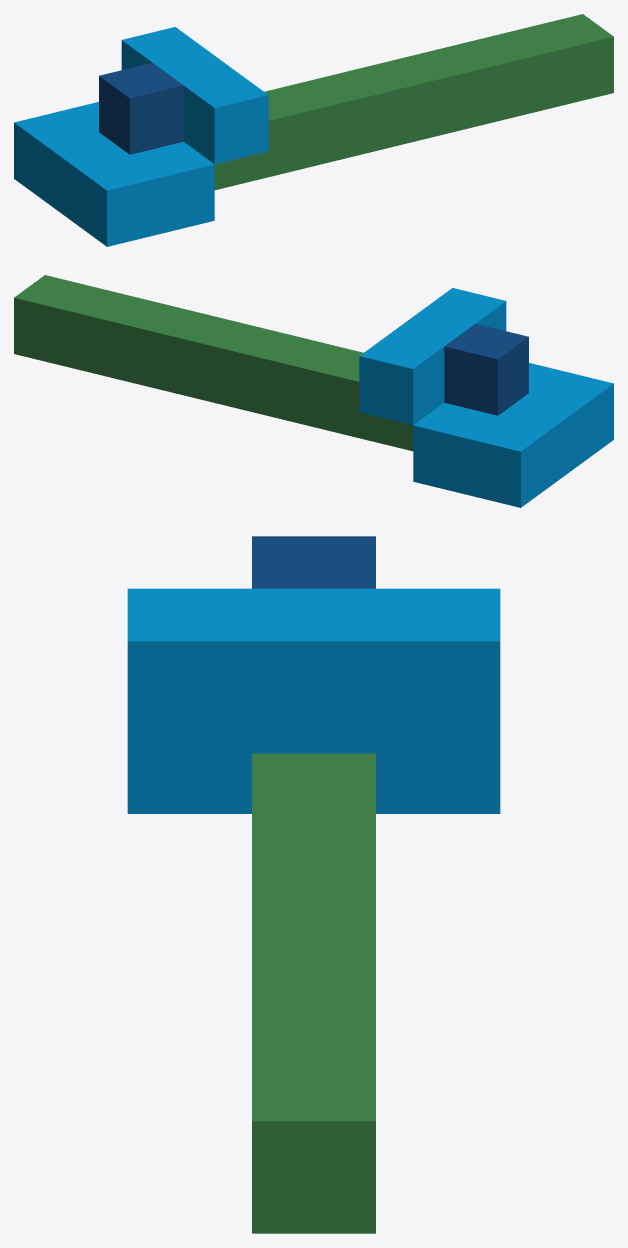
Rendered from flower_blue_flat.obj.
3 renders of one model, top to bottom at view 1: azimuth 30°, elevation 25°; view 2: azimuth 150°, elevation 25°; view 3: azimuth 270°, elevation 25°, orthographic. The views are drawn at different scales.
Size of the model in its own units: 1 by 0.2 by 0.3.
Materials: 1 (1 with a texture image).
